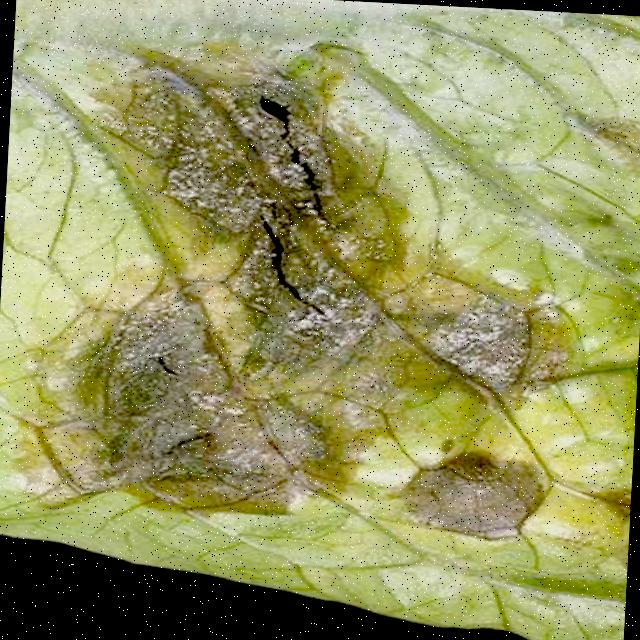Downy_mildew_on_lettuce: (37, 36, 586, 551)
